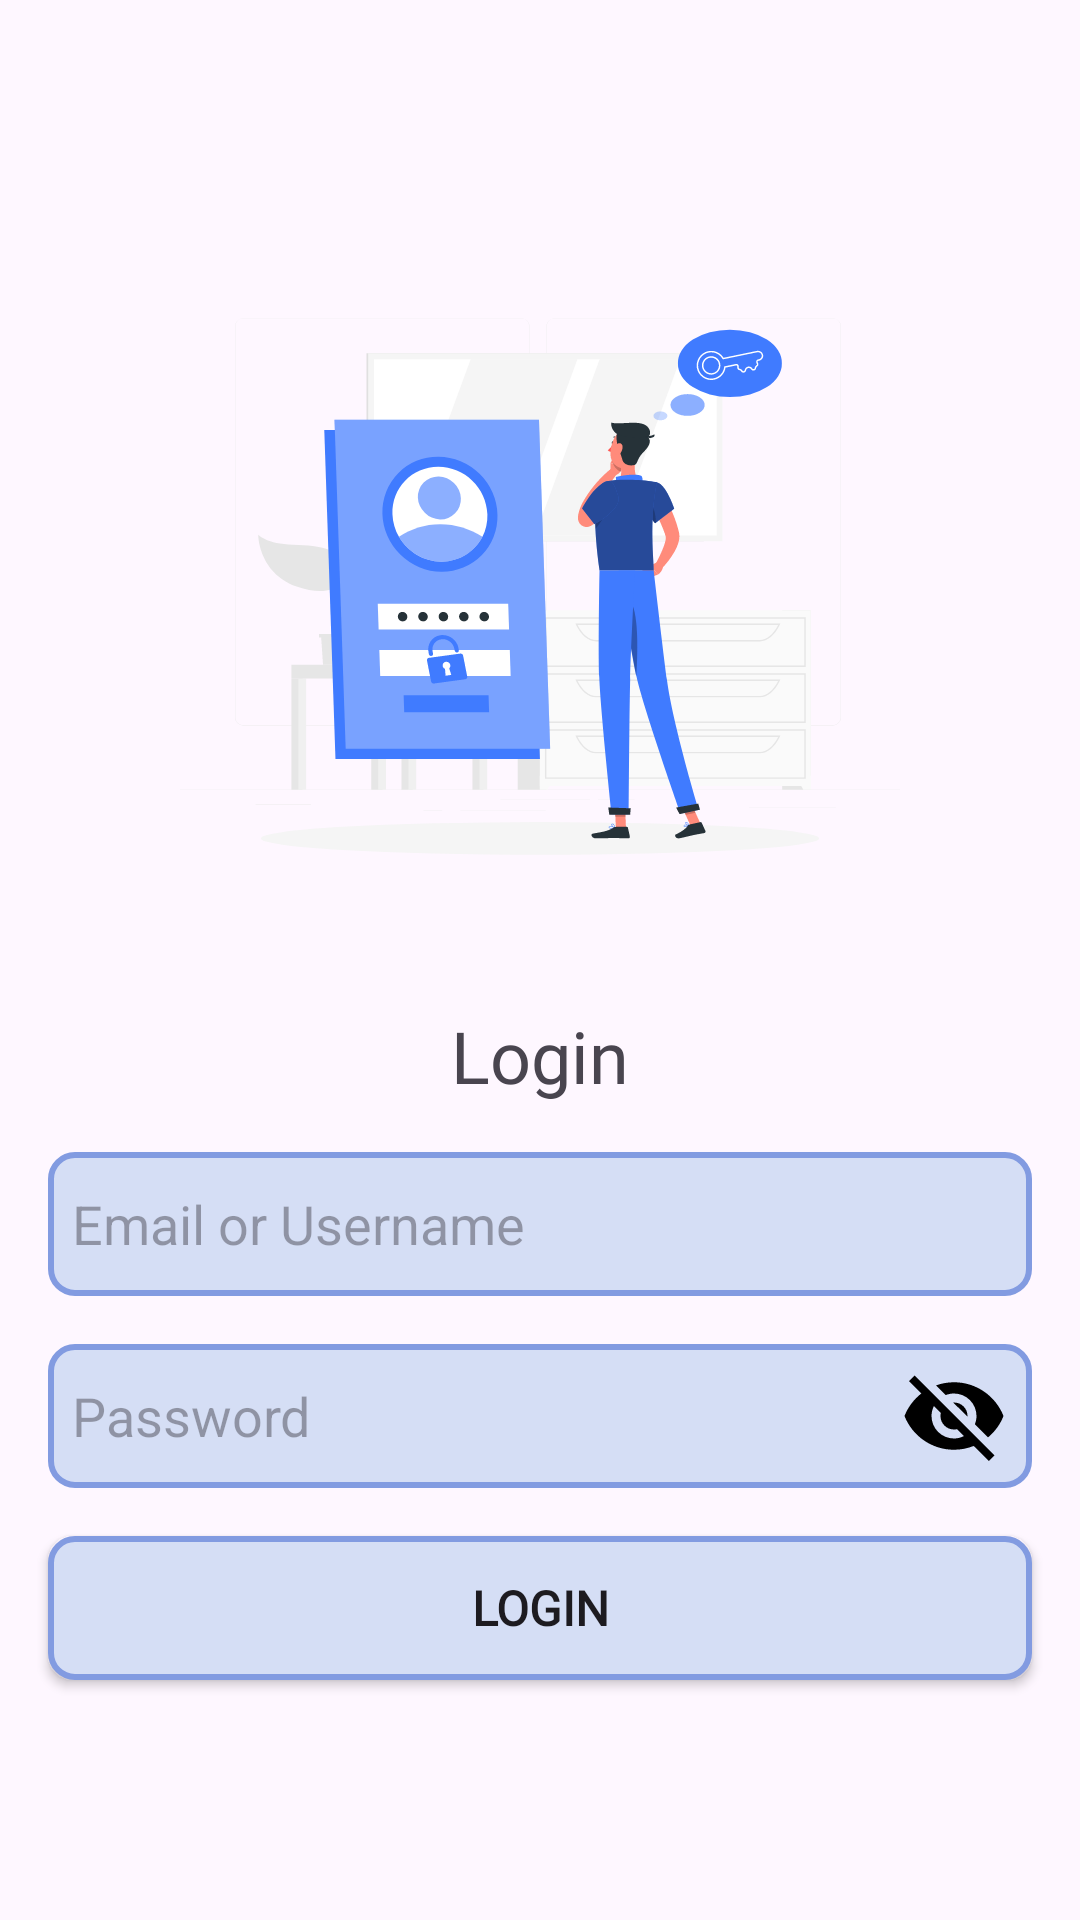

Icon click points for this 1080*1920 phone screenshot, format point (x, y):
eye off: point (954, 1418)
